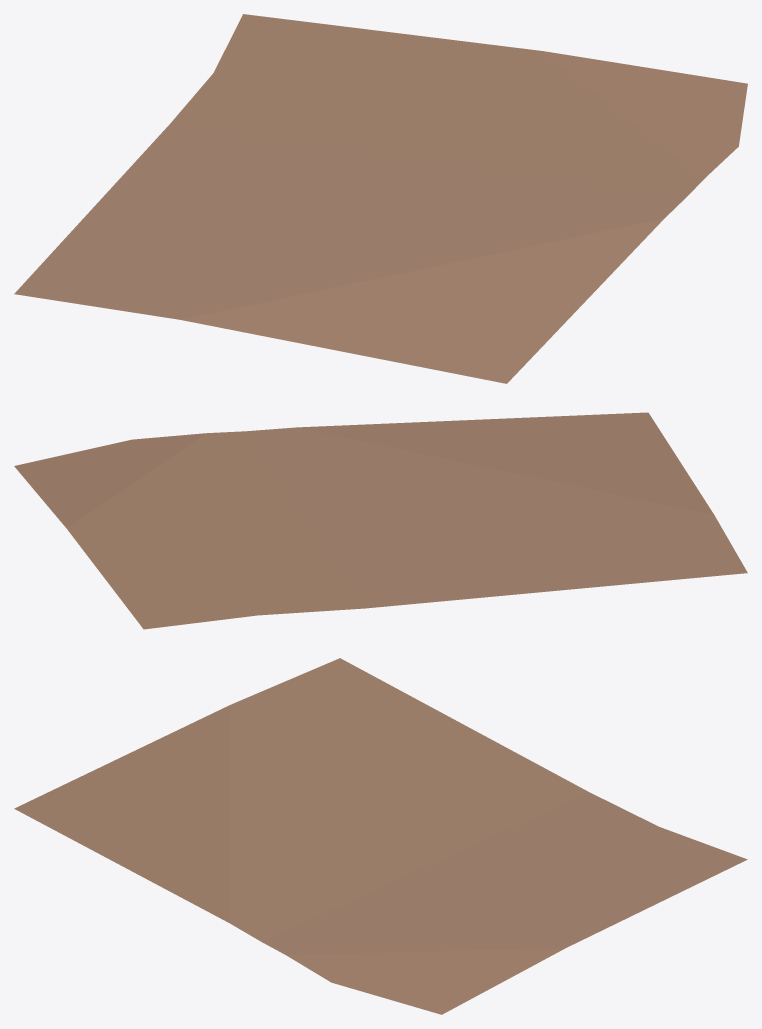
File: farm_14_32_soil.glb
3 views of the same model, one above another, from view 1: azimuth 30°, elevation 25°; view 2: azimuth 150°, elevation 25°; view 3: azimuth 270°, elevation 25° (orthographic). The views are drawn at different scales.
Parts seen in each view (by area): view 1: geometry_0; view 2: geometry_0; view 3: geometry_0.
Boxes of the visible parts, left/top/right/bottom form: geometry_0: left=14, top=14, right=747, bottom=383; geometry_0: left=14, top=412, right=747, bottom=629; geometry_0: left=14, top=658, right=747, bottom=1014.
Size of the model in its own units: 77.37 by 2.43 by 71.79.
